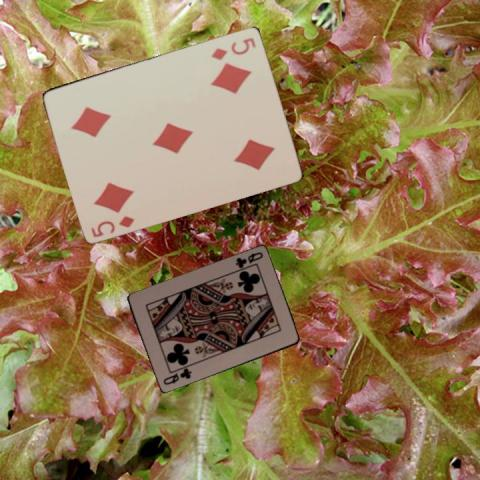5d: (208, 34, 257, 61), (88, 212, 136, 239)
Qc: (160, 365, 193, 387), (232, 249, 264, 270)
